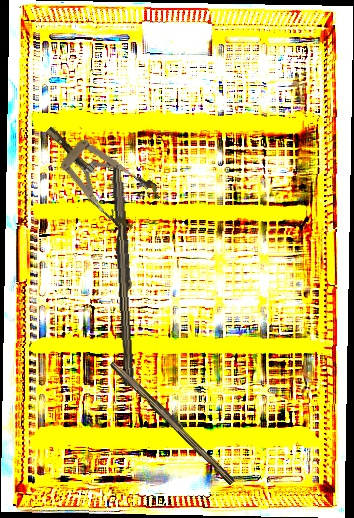Scalpel Handle: (107, 358, 239, 486), (108, 164, 141, 387)
Speculum: (30, 107, 165, 235)
